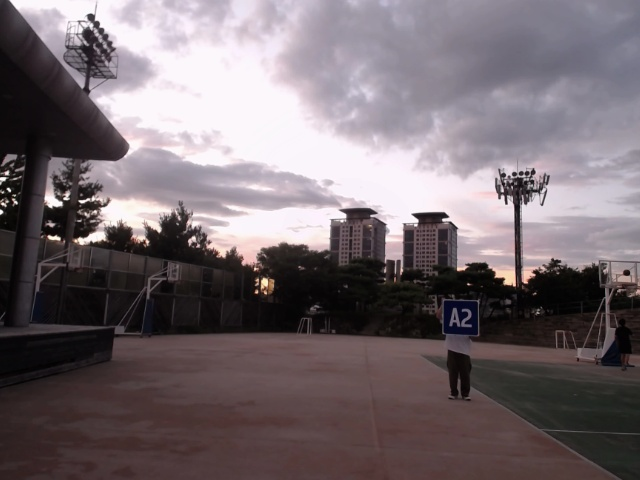delivery_a2: (443, 300, 479, 336)
